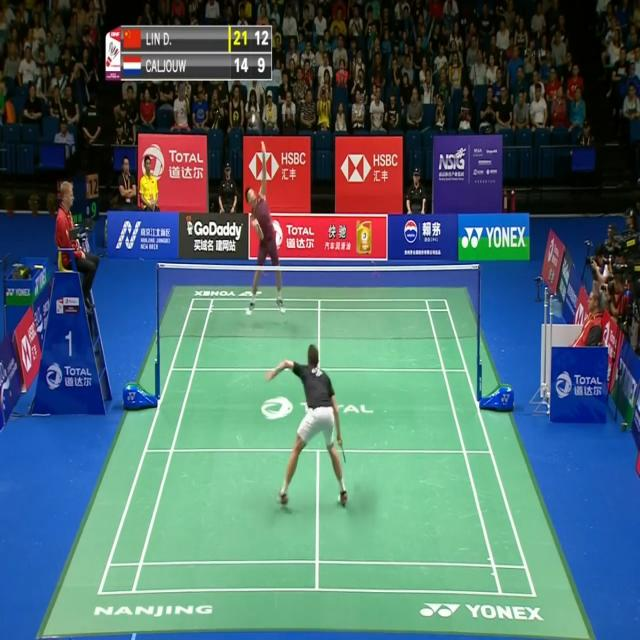Player1: (262, 339, 355, 520)
Player2: (227, 137, 292, 318)
